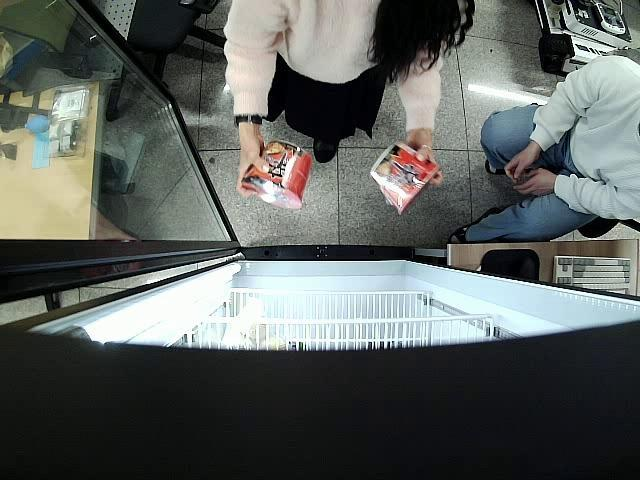01_ShinRamen_L: (240, 139, 313, 212), (371, 140, 440, 214)
